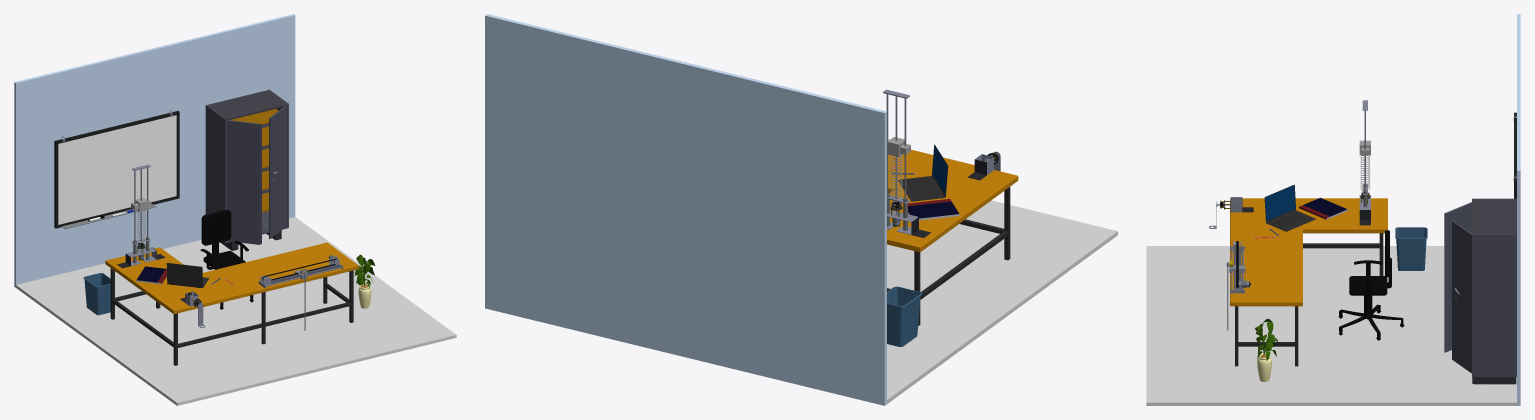
File: lab_room.glb
The picture shows the model from 3 angles, left to right: view 1: azimuth 30°, elevation 25°; view 2: azimuth 150°, elevation 25°; view 3: azimuth 270°, elevation 25°; orthographic projection. The views are drawn at different scales.
Parts seen in each view (by area): view 1: Wall, Floor, Shelve_Frame, Blackboard_Screen, Desk_Surface, Desk_Frame, Chair_Frame, Blackboard_Frame, TrashCan, Shelve_Racks, DeskItems_LaptopFrame; view 2: Wall, Floor, Desk_Surface, Desk_Frame, TrashCan, DeskItems_LaptopFrame, DeskItems_BookCoverBlue; view 3: Floor, Shelve_Frame, Desk_Surface, Chair_Frame, Wall, Desk_Frame, TrashCan, DeskItems_LaptopScreen, DeskItems_LaptopFrame, DeskItems_BookCoverBlue, Shelve_Base, PlantPot_Pot.
Boxes of the visible parts, bbox=[...] form: Wall: bbox=[14, 14, 295, 287]; Floor: bbox=[16, 217, 456, 405]; Shelve_Frame: bbox=[205, 89, 288, 244]; Blackboard_Screen: bbox=[58, 115, 176, 224]; Desk_Surface: bbox=[105, 242, 358, 313]; Desk_Frame: bbox=[110, 268, 353, 365]; Chair_Frame: bbox=[200, 209, 253, 306]; Blackboard_Frame: bbox=[54, 110, 179, 228]; TrashCan: bbox=[83, 273, 115, 315]; Shelve_Racks: bbox=[230, 109, 278, 212]; DeskItems_LaptopFrame: bbox=[166, 263, 209, 288]; Wall: bbox=[485, 14, 886, 405]; Floor: bbox=[887, 200, 1117, 403]; Desk_Surface: bbox=[887, 149, 1018, 252]; Desk_Frame: bbox=[887, 187, 1010, 325]; TrashCan: bbox=[887, 286, 921, 346]; DeskItems_LaptopFrame: bbox=[898, 144, 948, 201]; DeskItems_BookCoverBlue: bbox=[908, 201, 959, 218]; Floor: bbox=[1146, 246, 1516, 405]; Shelve_Frame: bbox=[1444, 198, 1516, 377]; Desk_Surface: bbox=[1230, 198, 1387, 306]; Chair_Frame: bbox=[1339, 230, 1403, 337]; Wall: bbox=[1517, 14, 1520, 405]; Desk_Frame: bbox=[1235, 233, 1383, 366]; TrashCan: bbox=[1395, 227, 1427, 270]; DeskItems_LaptopScreen: bbox=[1265, 185, 1295, 221]; DeskItems_LaptopFrame: bbox=[1264, 184, 1315, 231]; DeskItems_BookCoverBlue: bbox=[1303, 197, 1347, 216]; Shelve_Base: bbox=[1472, 377, 1516, 384]; PlantPot_Pot: bbox=[1257, 353, 1271, 381].
Size of the model in its own units: 2 by 1.4 by 2.02.
